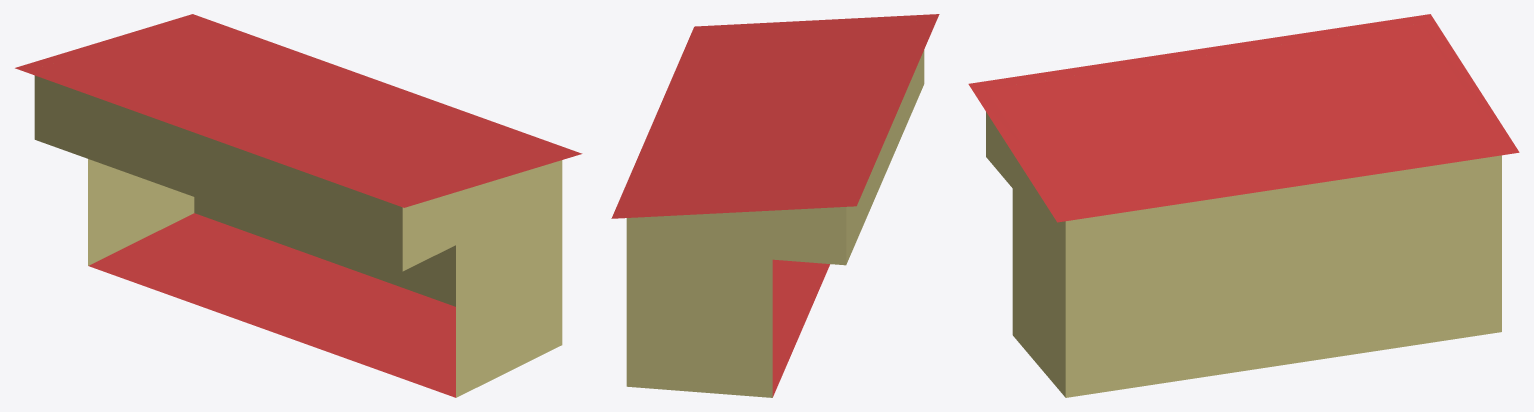
The picture shows the model from 3 angles, left to right: view 1: azimuth 30°, elevation 25°; view 2: azimuth 150°, elevation 25°; view 3: azimuth 270°, elevation 25°; orthographic projection. The views are drawn at different scales.
Bounding box in the file's own units: 22.44 × 29.85 × 12.92.
